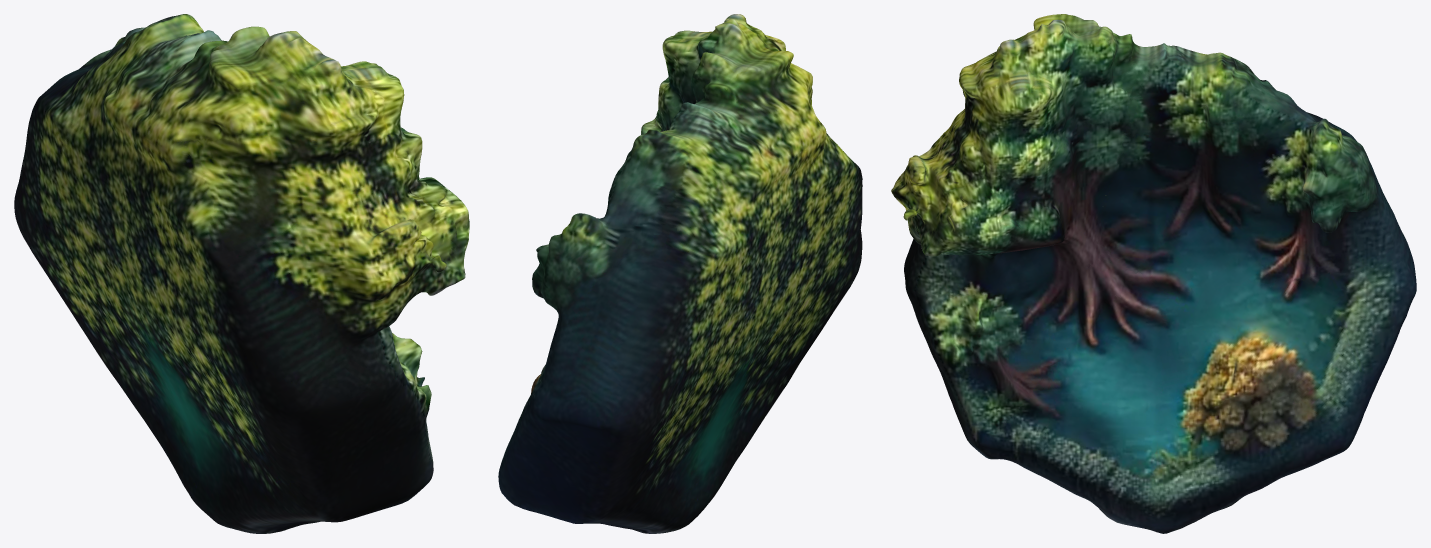
Rendered from hex_tiles_sheet.glb.
The picture shows the model from 3 angles, left to right: view 1: azimuth 30°, elevation 25°; view 2: azimuth 150°, elevation 25°; view 3: azimuth 270°, elevation 25°; orthographic projection. The views are drawn at different scales.
Parts seen in each view (by area): view 1: tripo_node_e66a5e82-35eb-4a4b-b49d-1ea9d6e75087; view 2: tripo_node_e66a5e82-35eb-4a4b-b49d-1ea9d6e75087; view 3: tripo_node_e66a5e82-35eb-4a4b-b49d-1ea9d6e75087.
Part boxes in pixels (x1,y1,x2,y2): tripo_node_e66a5e82-35eb-4a4b-b49d-1ea9d6e75087: [14, 14, 469, 533]; tripo_node_e66a5e82-35eb-4a4b-b49d-1ea9d6e75087: [498, 14, 862, 533]; tripo_node_e66a5e82-35eb-4a4b-b49d-1ea9d6e75087: [891, 14, 1416, 533].
Size of the model in its own units: 0.3713 by 0.7238 by 0.7258.
Materials: 1 (1 with a texture image).
